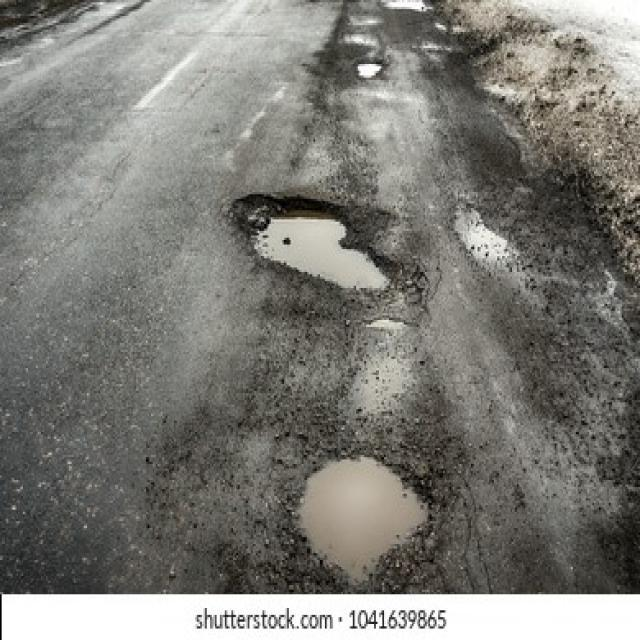Pothole: (288, 448, 436, 590), (232, 190, 396, 295), (354, 60, 386, 80)
